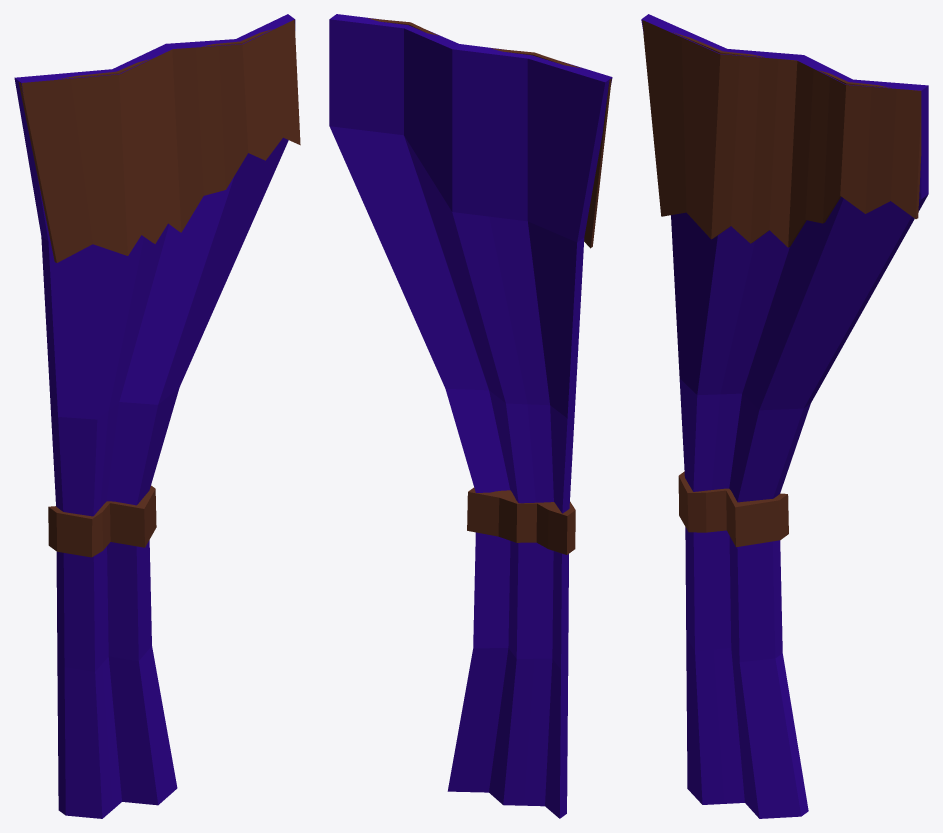
Rendered from clothDoorSection_left.glb.
The picture shows the model from 3 angles, left to right: view 1: azimuth 30°, elevation 25°; view 2: azimuth 150°, elevation 25°; view 3: azimuth 330°, elevation 25°; orthographic projection.
Visible parts, largest first — view 1: Cube.001, Cube.002, Cube.003; view 2: Cube.001, Cube.003, Cube.002; view 3: Cube.001, Cube.002, Cube.003.
Boxes of the visible parts, left/top/right/bottom form: Cube.001: left=14, top=14, right=295, bottom=818; Cube.002: left=18, top=19, right=300, bottom=262; Cube.003: left=48, top=485, right=156, bottom=557; Cube.001: left=329, top=14, right=612, bottom=818; Cube.003: left=467, top=487, right=575, bottom=554; Cube.002: left=368, top=18, right=611, bottom=248; Cube.001: left=641, top=14, right=928, bottom=818; Cube.002: left=642, top=20, right=921, bottom=247; Cube.003: left=678, top=471, right=788, bottom=547.
Bounding box in the file's own units: 0.6351 × 1.65 × 0.1124.
